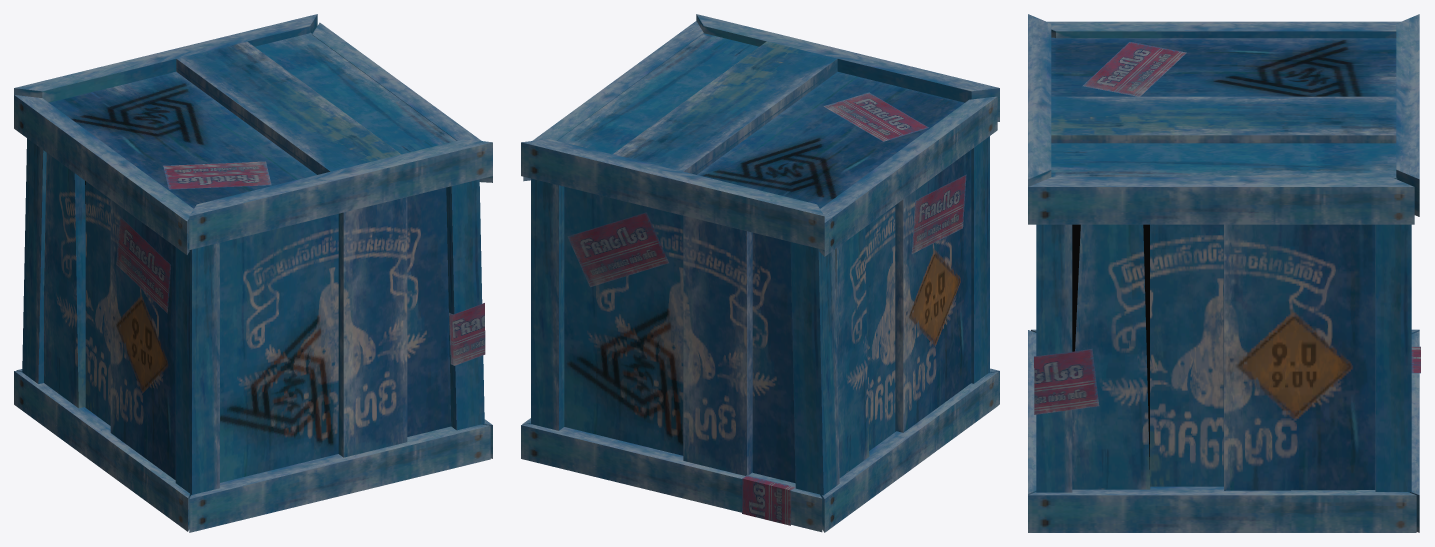
The picture shows the model from 3 angles, left to right: view 1: azimuth 30°, elevation 25°; view 2: azimuth 150°, elevation 25°; view 3: azimuth 270°, elevation 25°; orthographic projection. The views are drawn at different scales.
Parts seen in each view (by area): view 1: Box__M_Obj_Box02L; view 2: Box__M_Obj_Box02L; view 3: Box__M_Obj_Box02L.
Boxes of the visible parts, <box> form: Box__M_Obj_Box02L: <box>14,14,492,532</box>; Box__M_Obj_Box02L: <box>521,14,999,532</box>; Box__M_Obj_Box02L: <box>1028,14,1420,532</box>.
Size of the model in its own units: 3 by 2.99 by 3.01.
Materials: 1 (1 with a texture image).
